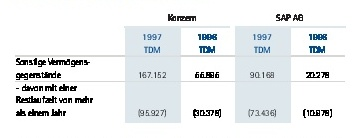table: (0, 0, 353, 138)
